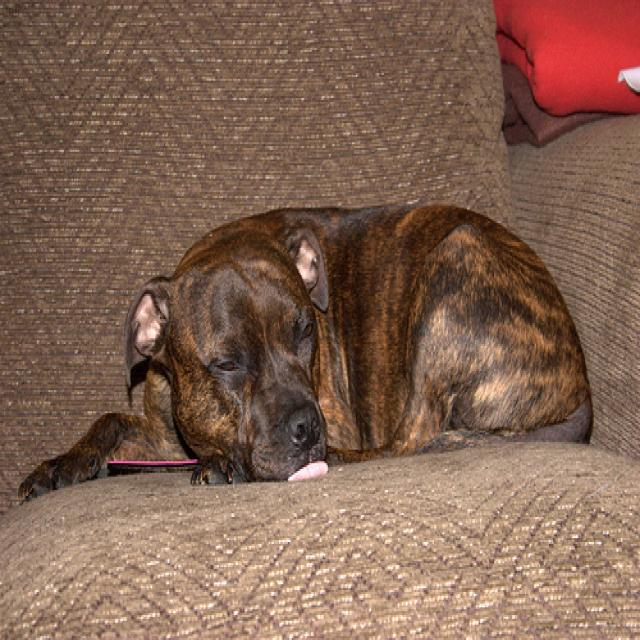dog-staffordshire_bull_terrier: (13, 192, 603, 513)
